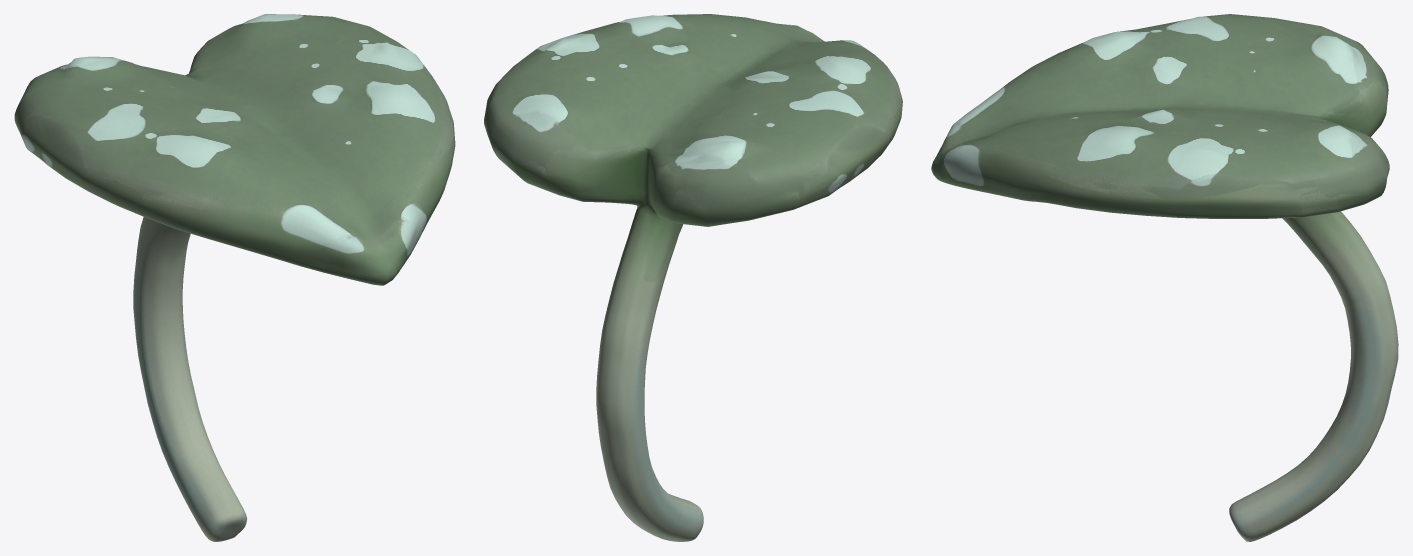
File: pothos_silver_droplet_v2.glb
The picture shows the model from 3 angles, left to right: view 1: azimuth 30°, elevation 25°; view 2: azimuth 150°, elevation 25°; view 3: azimuth 270°, elevation 25°; orthographic projection. The views are drawn at different scales.
Visible parts, largest first — view 1: world; view 2: world; view 3: world.
Part boxes in pixels (x1=…): world: x1=14, y1=14, x2=455, y2=541; world: x1=484, y1=14, x2=902, y2=541; world: x1=931, y1=14, x2=1398, y2=541.
Bounding box in the file's own units: 1.62 × 2 × 1.86.
Materials: 1 (1 with a texture image).
